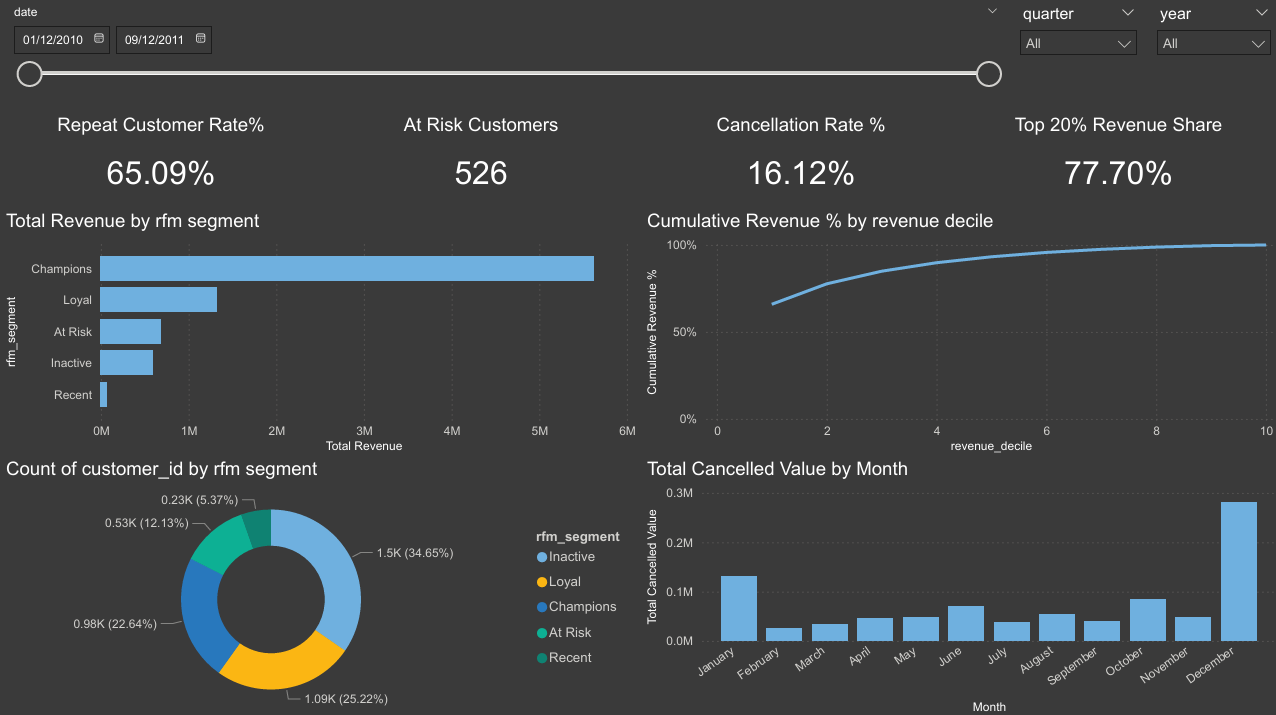

What the dashboard file says about the page in this screenshot:
{"tool":"powerbi","page":{"name":"Customer Analysis","canvas":[1280,720],"ordinal":2},"visuals":[{"type":"card","title":"Repeat Customer Rate%","fields":{"Values":["online_retail vw_dim_product.Repeat Customer Rate %"]},"box":[0,113.8,320,96.3],"z":0},{"type":"card","title":"At Risk Customers","fields":{"Values":["online_retail vw_dim_product.At Risk Customers"]},"box":[320,113.8,320,96.3],"z":1000},{"type":"card","title":"Cancellation Rate %","fields":{"Values":["online_retail vw_dim_product.Cancellation Rate %"]},"box":[640,113.8,320,96.3],"z":2000},{"type":"card","title":"Top 20% Revenue Share","fields":{"Values":["online_retail vw_dim_product.Top 20pct Revenue Share"]},"box":[955.1,113.8,324.9,96.3],"z":3000},{"type":"clusteredBarChart","title":"Total Revenue by rfm segment","fields":{"Category":["online_retail vw_dim_customer.rfm_segment"],"Y":["online_retail vw_dim_product.Total Revenue"]},"box":[0,210.1,640,248],"z":4000},{"type":"lineChart","title":"Cumulative Revenue % by revenue decile","fields":{"Category":["online_retail vw_dim_customer.revenue_decile"],"Y":["online_retail vw_dim_product.Cumulative Revenue %"]},"box":[640.5,210.4,639.5,247.7],"z":5000},{"type":"donutChart","title":"Count of customer_id by rfm segment","fields":{"Category":["online_retail vw_dim_customer.rfm_segment"],"Y":["CountNonNull(online_retail vw_dim_customer.customer_id)"]},"box":[0,458.1,640,261.6],"z":6000},{"type":"clusteredColumnChart","fields":{"Category":["online_retail dim_date.year_month.Variation.Date Hierarchy.Month","online_retail dim_date.year_month.Variation.Date Hierarchy.Day","online_retail vw_fact_orders.is_cancellation"],"Y":["online_retail vw_dim_product.Total Cancelled Value"]},"box":[640.5,458.1,639.5,261.2],"z":7000},{"type":"slicer","fields":{"Values":["online_retail dim_date.date"]},"box":[0,0,1008.6,113.8],"z":8000},{"type":"slicer","fields":{"Values":["online_retail dim_date.quarter"]},"box":[1008.6,0,137.1,113.8],"z":9000},{"type":"slicer","fields":{"Values":["online_retail dim_date.year"]},"box":[1145.8,0,134.2,113.8],"z":10000}]}

Visuals, with their boxes in screenshot pixels (x1, y1, x2, y2), scaled from the page's 1280x720 canvas onto the 1276x715 screenshot:
"Repeat Customer Rate%" card: detection(0, 113, 319, 209)
"At Risk Customers" card: detection(319, 113, 638, 209)
"Cancellation Rate %" card: detection(638, 113, 957, 209)
"Top 20% Revenue Share" card: detection(952, 113, 1275, 209)
"Total Revenue by rfm segment" clusteredBarChart: detection(0, 209, 638, 455)
"Cumulative Revenue % by revenue decile" lineChart: detection(638, 209, 1275, 455)
"Count of customer_id by rfm segment" donutChart: detection(0, 455, 638, 714)
clusteredColumnChart - online_retail dim_date.year_month.Variation.Date Hierarchy.Month x online_retail dim_date.year_month.Variation.Date Hierarchy.Day: detection(638, 455, 1275, 714)
slicer - online_retail dim_date.date: detection(0, 0, 1005, 113)
slicer - online_retail dim_date.quarter: detection(1005, 0, 1142, 113)
slicer - online_retail dim_date.year: detection(1142, 0, 1275, 113)
